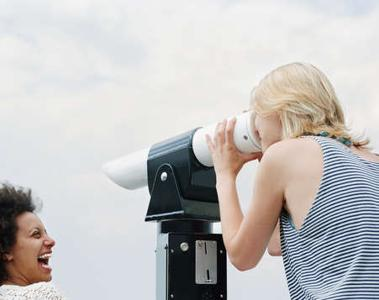person: (207, 65, 378, 300)
